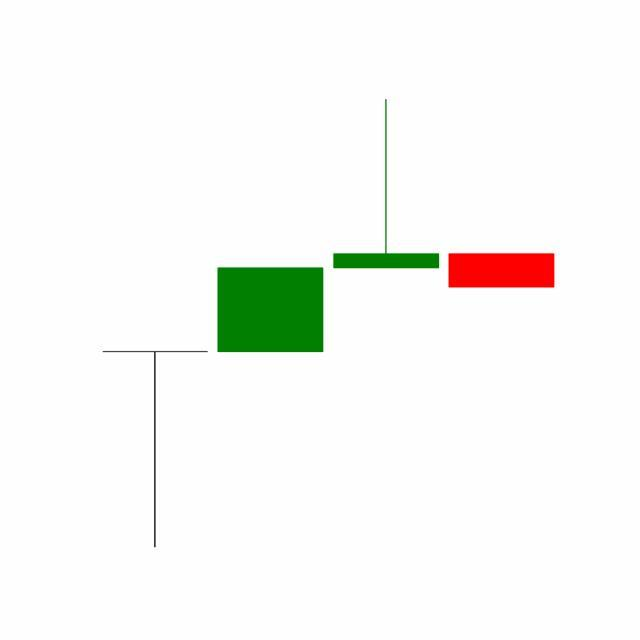Gravestone Doji: (329, 98, 445, 271)
